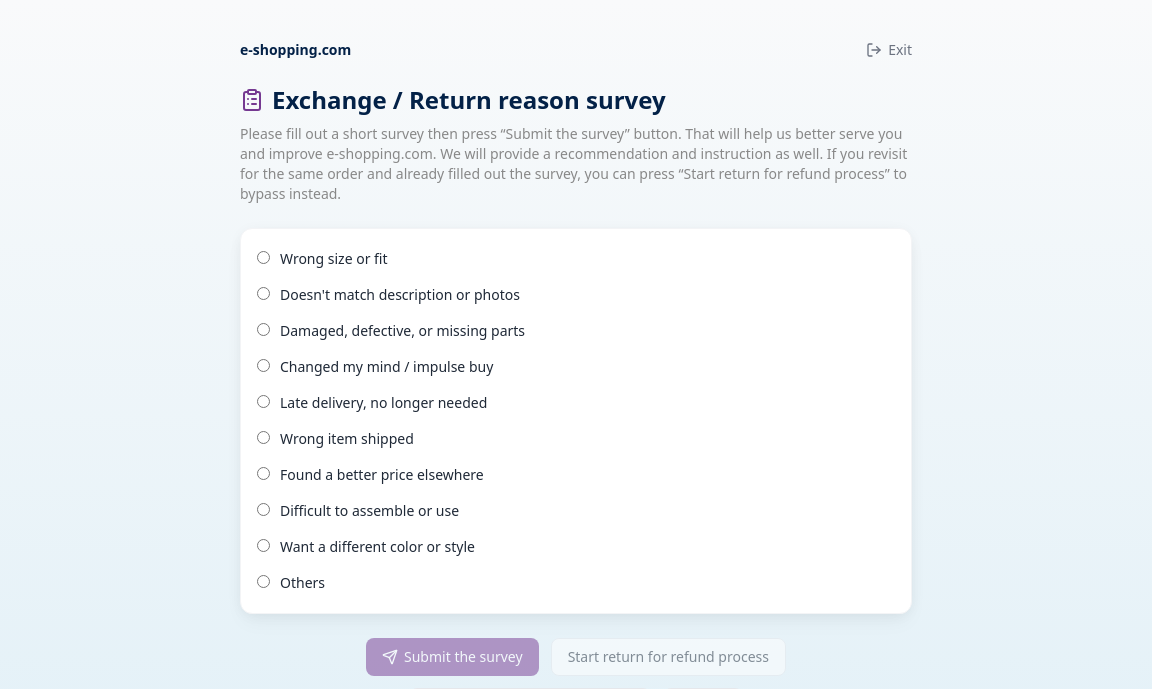
Test: ExchangeReturnPage › hides the normal return/refund button for special exchange handling
Click the radio button labelled "Damaged, defective, or missing parts" at (264, 330), box [257,323,270,336]
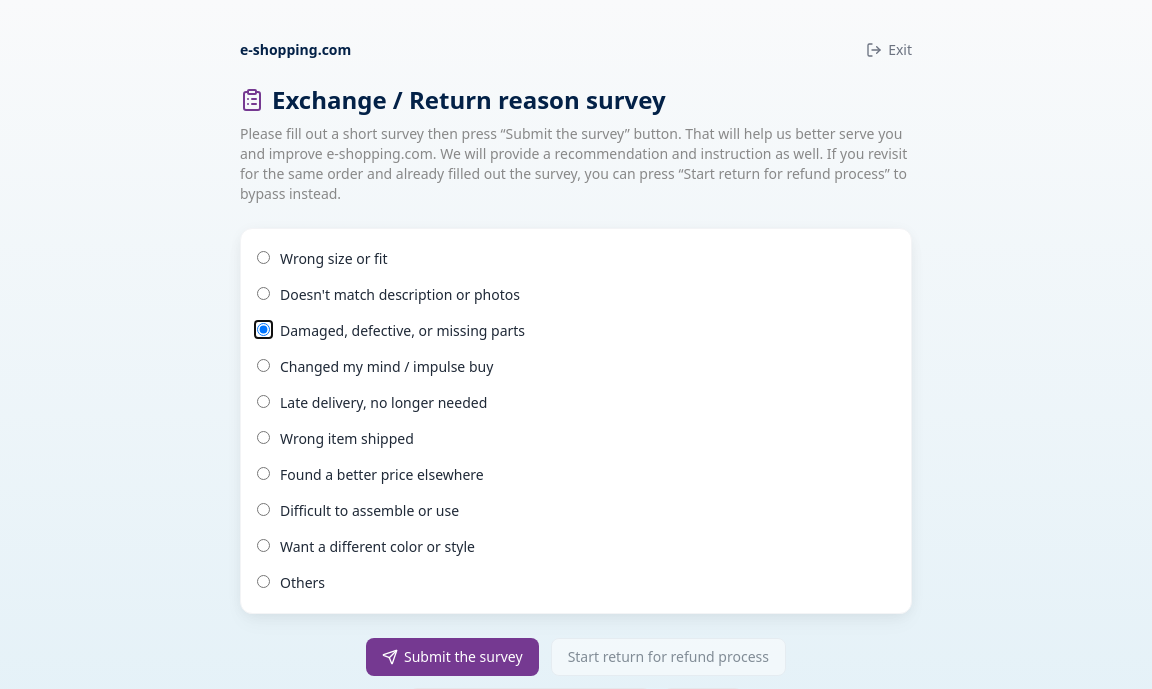
Click the button "Submit the survey" at (452, 657), box [366,638,539,676]
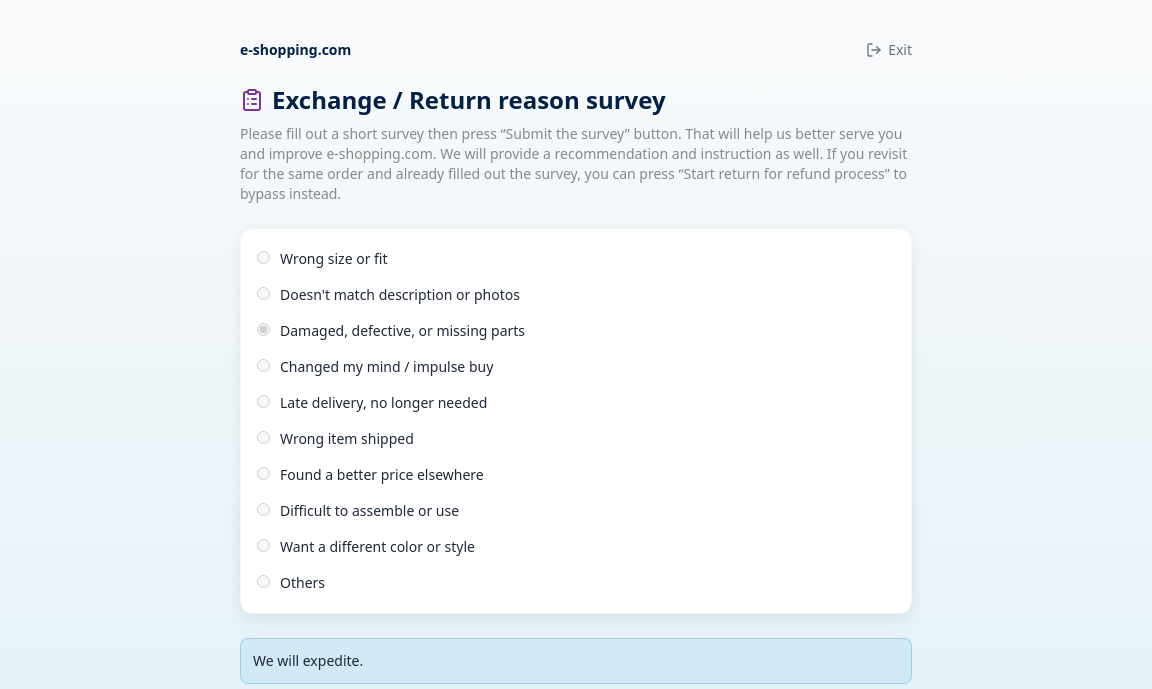
Expected: the button "start return for refund process" is not shown
Result: the text "We will expedite." is shown at [240,638,912,684]
